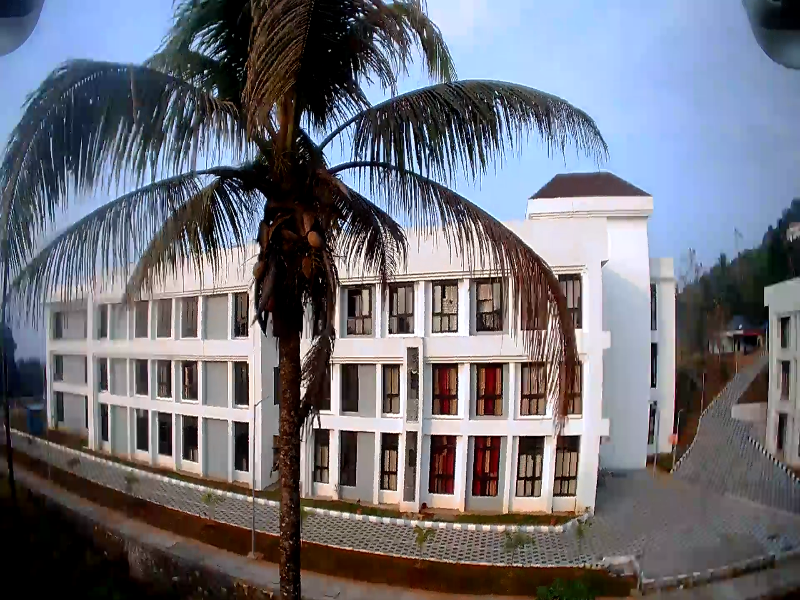coconut: (248, 262, 268, 278), (308, 227, 321, 249), (299, 253, 313, 273)
